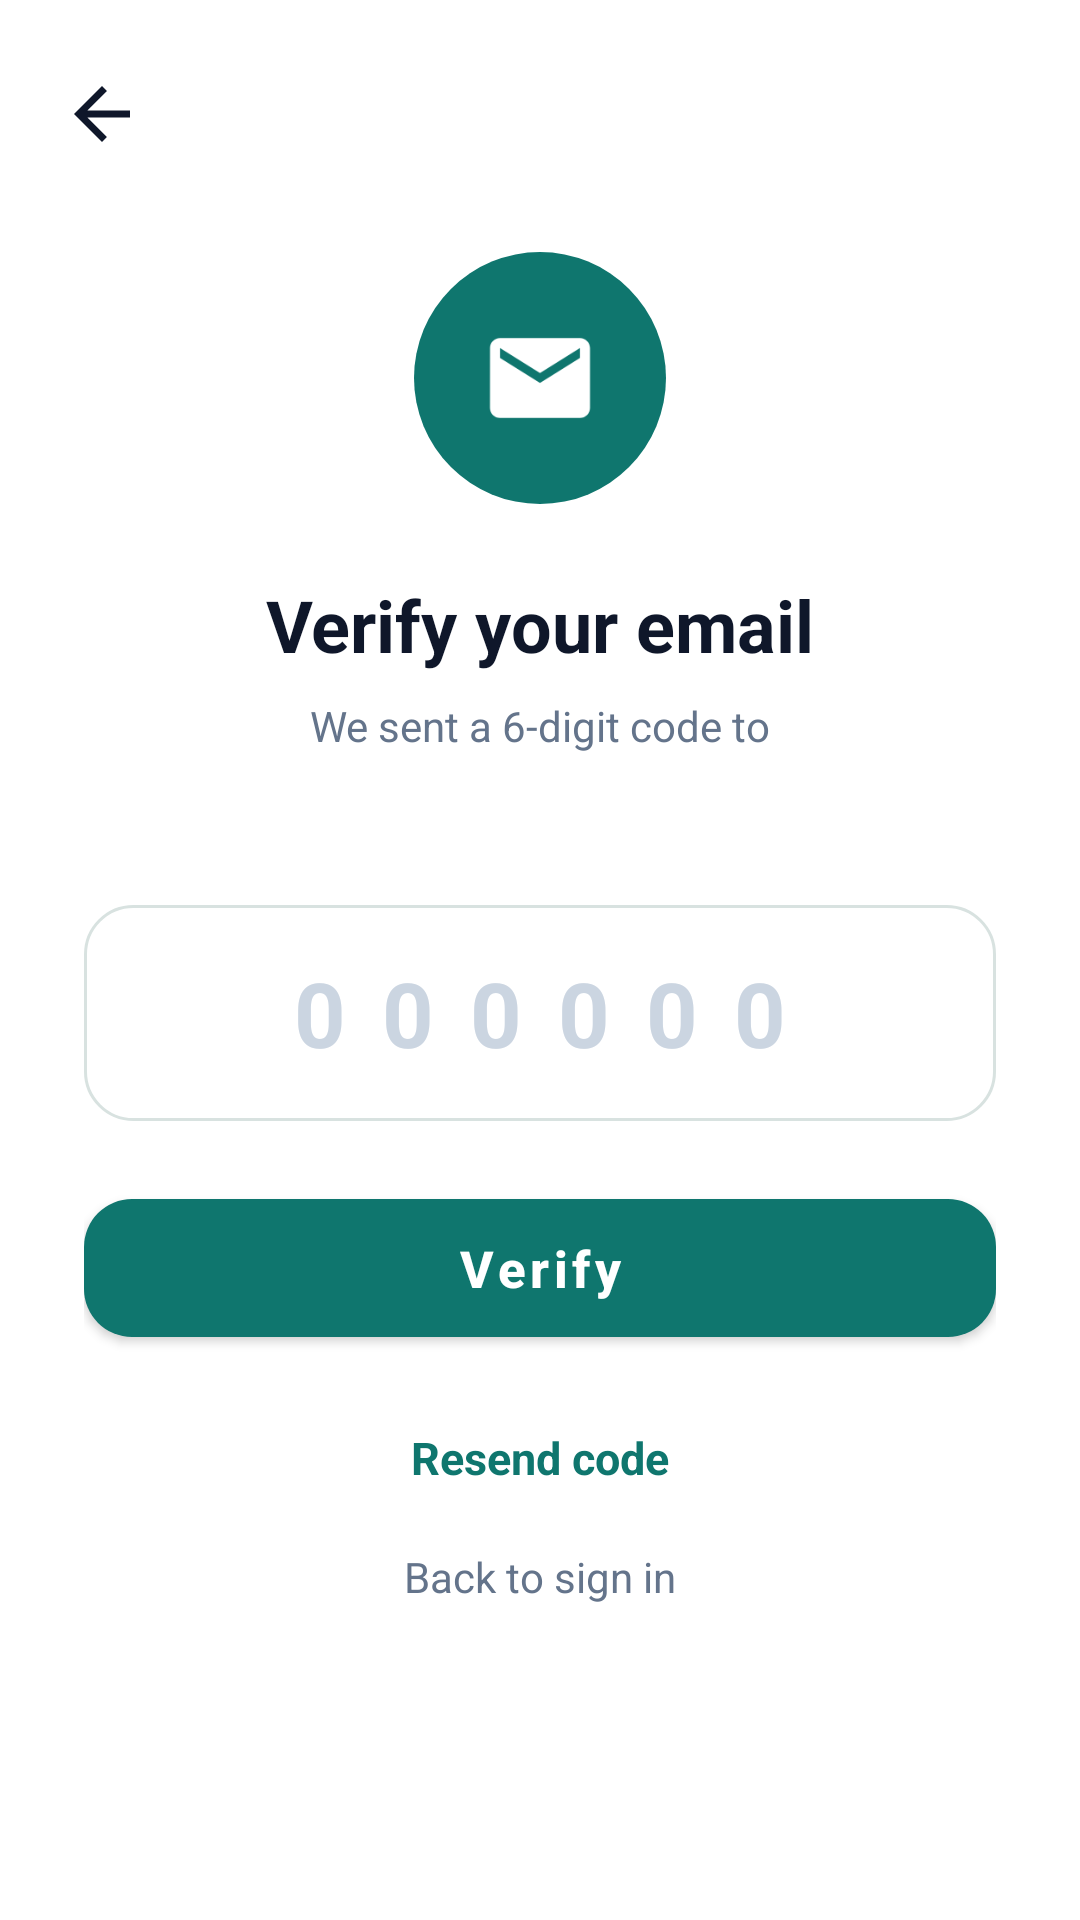

Locate icon controls on the screen. Image size 1080w x 1920h, boxes as bbox=(x1, y1, x2, y2).
Back: bbox=(74, 86, 130, 142)
